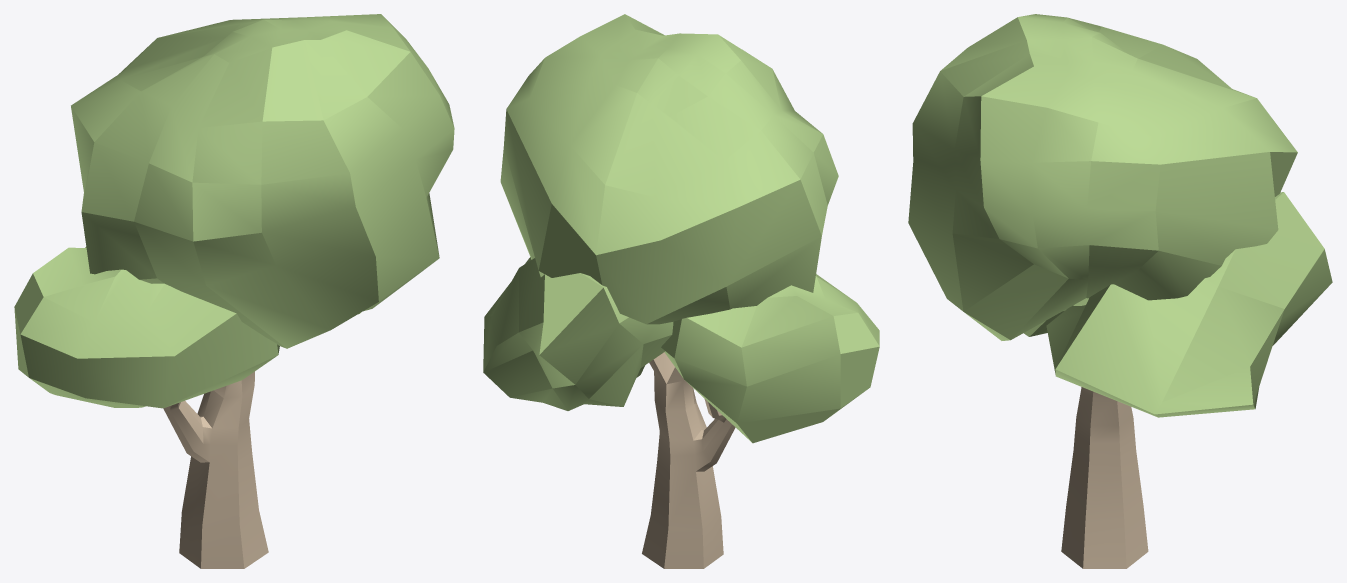
Rendered from apple-tree-transformed.glb.
3 views of the same model, side by side, from view 1: azimuth 30°, elevation 25°; view 2: azimuth 150°, elevation 25°; view 3: azimuth 270°, elevation 25° (orthographic). The views are drawn at different scales.
Visible parts, largest first — view 1: Cube 2.011, Cube 3.005, Cylinder.009; view 2: Cube 2.011, Cube 3.005, Cube 4.010, Cylinder.009; view 3: Cube 2.011, Cube 4.010, Cylinder.009.
Boxes of the visible parts, x1,y1,x2,y2 form: Cube 2.011: (71,14,454,348); Cube 3.005: (14,246,279,408); Cylinder.009: (163,371,268,568); Cube 2.011: (500,14,838,324); Cube 3.005: (661,274,879,443); Cube 4.010: (483,257,673,410); Cylinder.009: (642,352,735,568); Cube 2.011: (908,14,1297,340); Cube 4.010: (1046,192,1332,417); Cylinder.009: (1061,387,1148,568).
Bounding box in the file's own units: 3.64 × 4.63 × 3.31.
